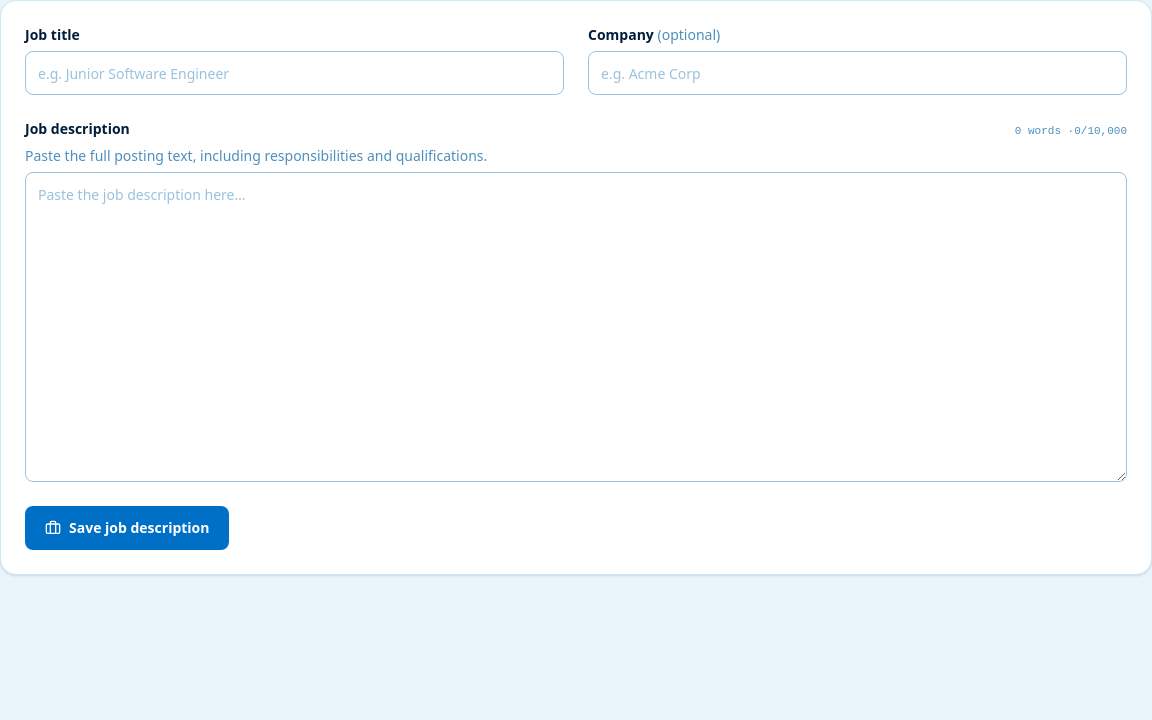
TargetJobForm › shows validation messages and does not save when information is missing
Click the button "Save job description" at (127,528), box [25, 506, 230, 550]
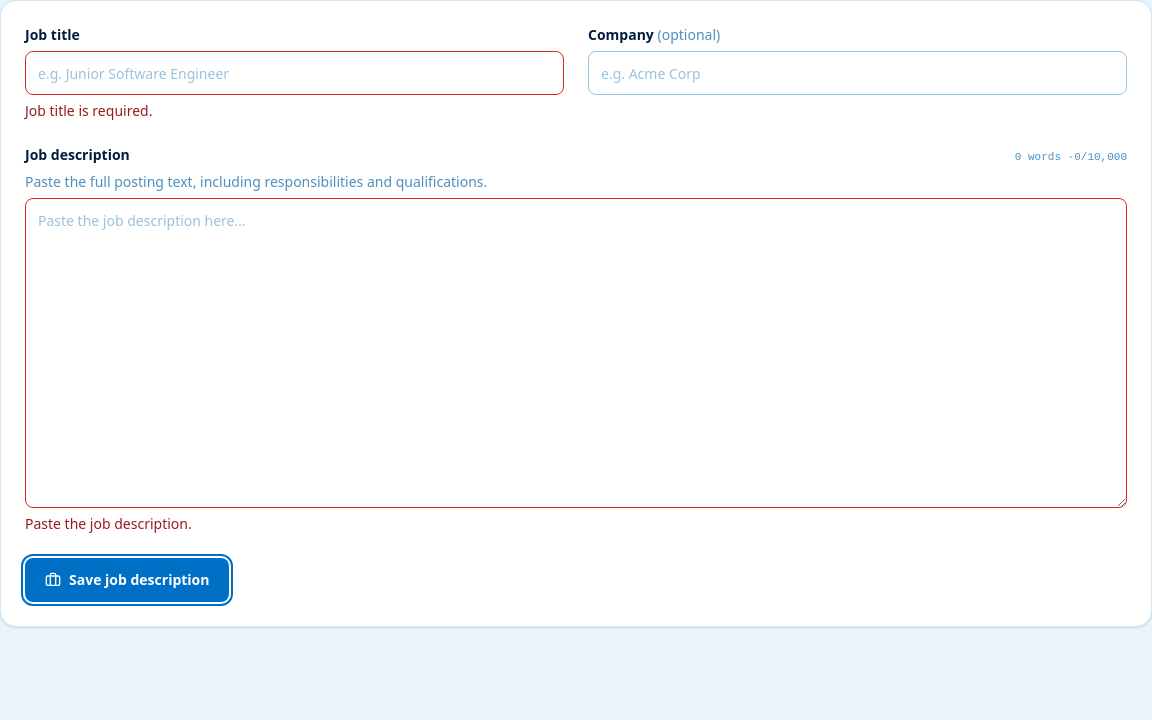
Expected: the text "Job title is required." is shown, [25, 101, 152, 120]
Expected: the text "Paste the job description." is shown, [25, 514, 192, 532]
